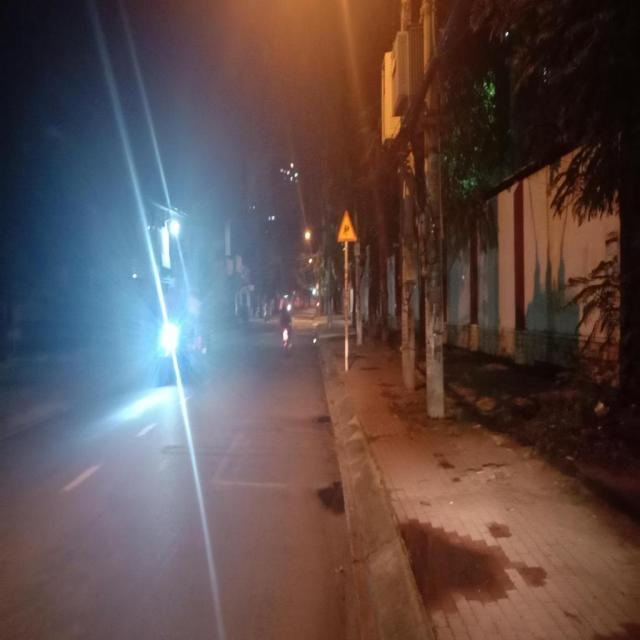chu_y_tre_em: (336, 209, 358, 242)
